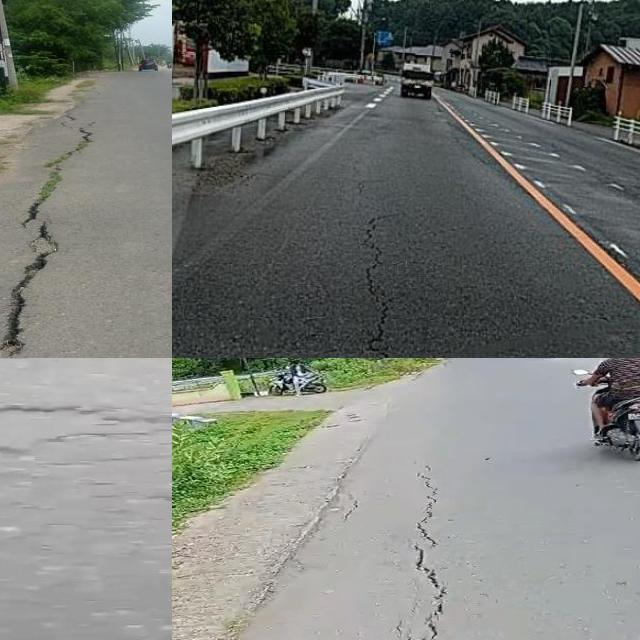Melintang: (0, 383, 172, 441)
Memanjang: (0, 123, 107, 358), (398, 459, 454, 640), (358, 211, 403, 358)
